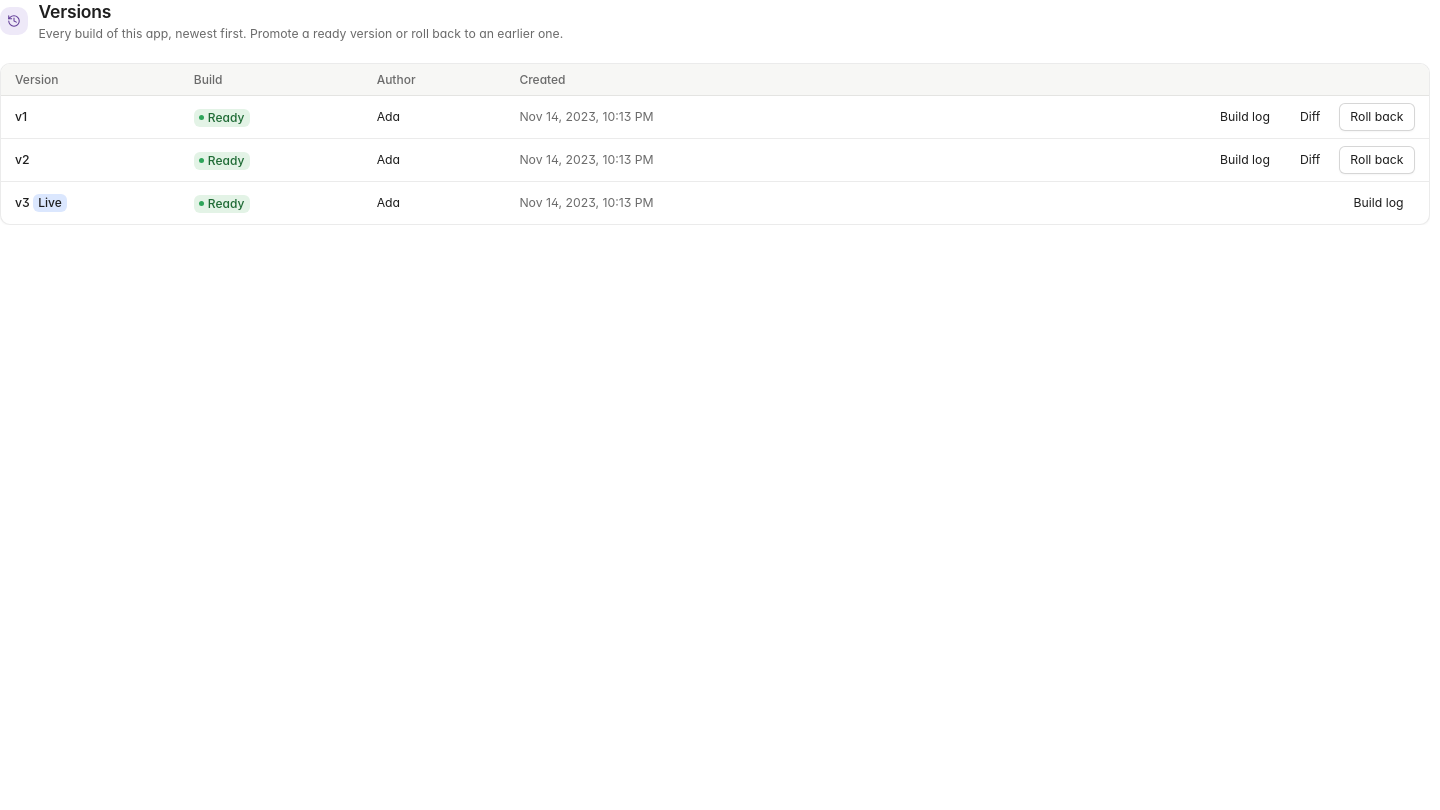
VersionsView › rollback dialog names target version
Click the button with aria-label "Roll back to version 2": (1377, 160) x1=1339 y1=146 x2=1415 y2=174
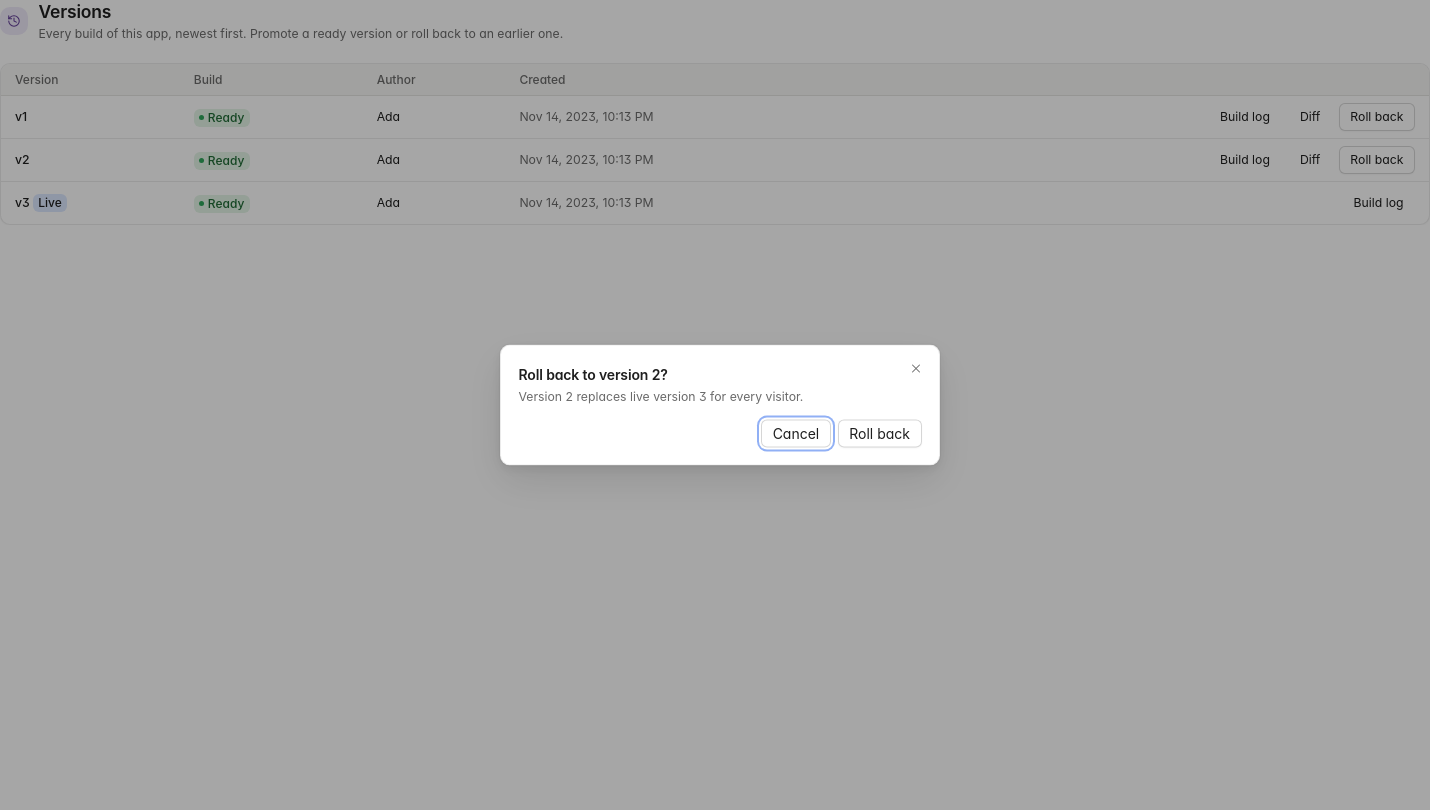
Check: the dialog shows "Roll back to version 2?", box x1=518 y1=365 x2=668 y2=382
